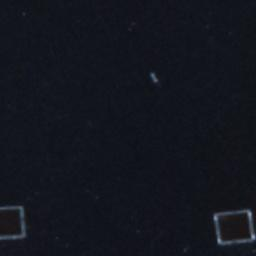square_solid: (209, 206, 256, 248), (1, 200, 29, 243)
